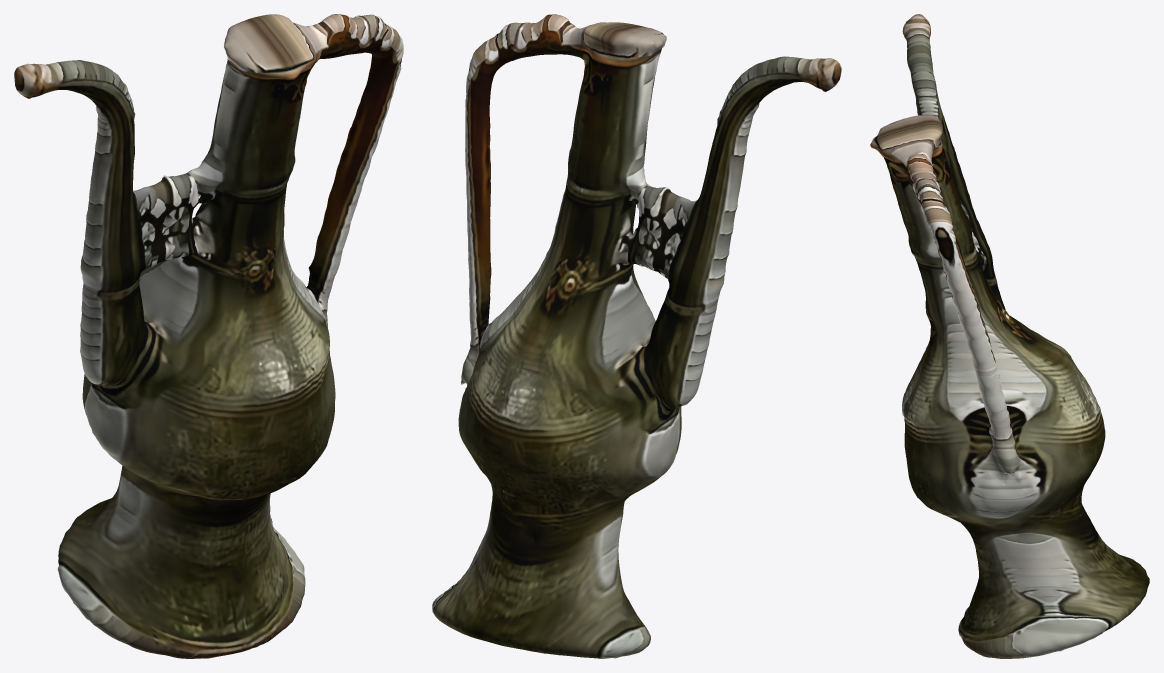
File: kfl-2246.glb
3 renders of one model, left to right at view 1: azimuth 30°, elevation 25°; view 2: azimuth 150°, elevation 25°; view 3: azimuth 270°, elevation 25°, orthographic. The views are drawn at different scales.
Parts seen in each view (by area): view 1: kfl-2246; view 2: kfl-2246; view 3: kfl-2246.
Part boxes in pixels (left/top/right/bottom): kfl-2246: left=14, top=14, right=403, bottom=658; kfl-2246: left=432, top=14, right=841, bottom=658; kfl-2246: left=870, top=14, right=1149, bottom=658.
Bounding box in the file's own units: 0.6211 × 0.9929 × 0.4749.
Materials: 1 (1 with a texture image).
